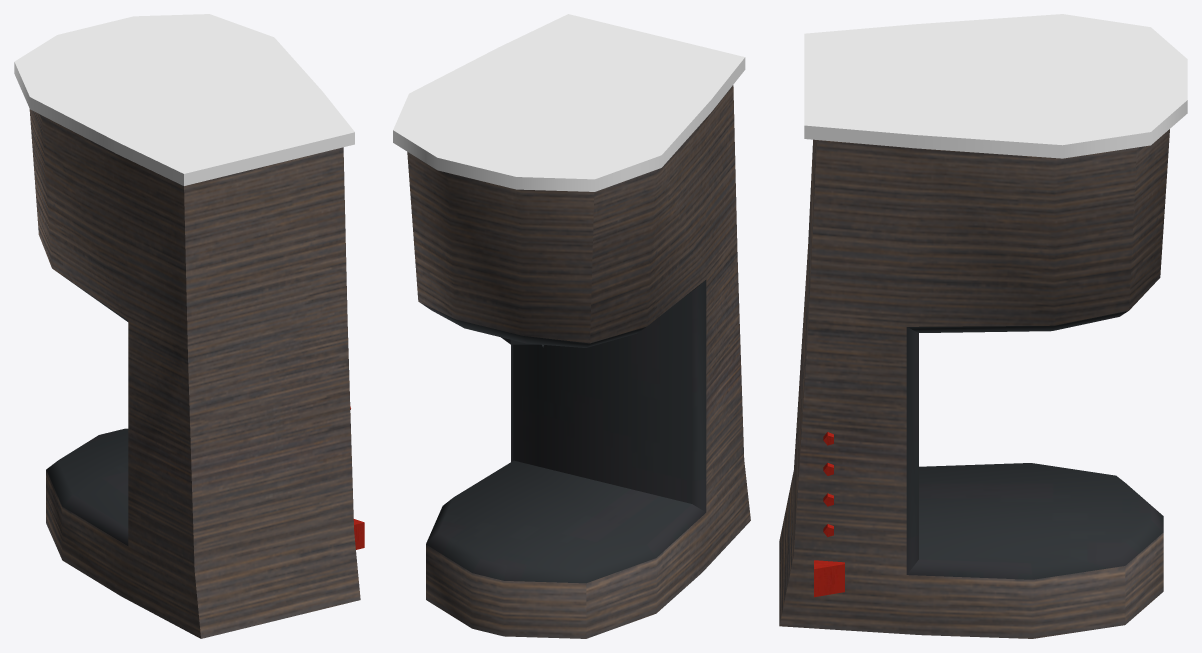
Rendered from Coffee_maker.glb.
The picture shows the model from 3 angles, left to right: view 1: azimuth 30°, elevation 25°; view 2: azimuth 150°, elevation 25°; view 3: azimuth 270°, elevation 25°; orthographic projection. The views are drawn at different scales.
Parts seen in each view (by area): view 1: Coffee_maker; view 2: Coffee_maker; view 3: Coffee_maker.
Boxes of the visible parts, x1,y1,x2,y2 form: Coffee_maker: [14, 14, 364, 638]; Coffee_maker: [393, 14, 750, 638]; Coffee_maker: [779, 14, 1187, 638].
Bounding box in the file's own units: 0.3522 × 0.6307 × 0.4629.
4 materials, 3 textured.
